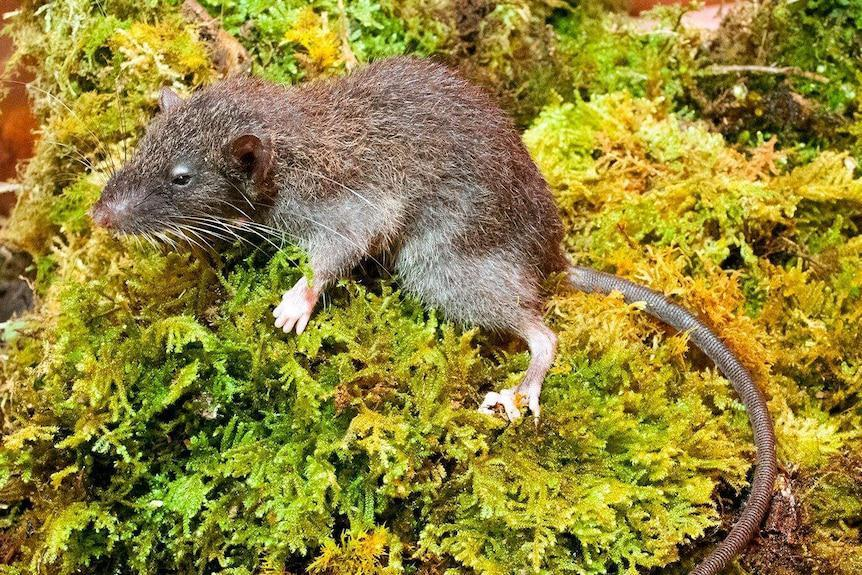rat: (93, 55, 777, 575)
